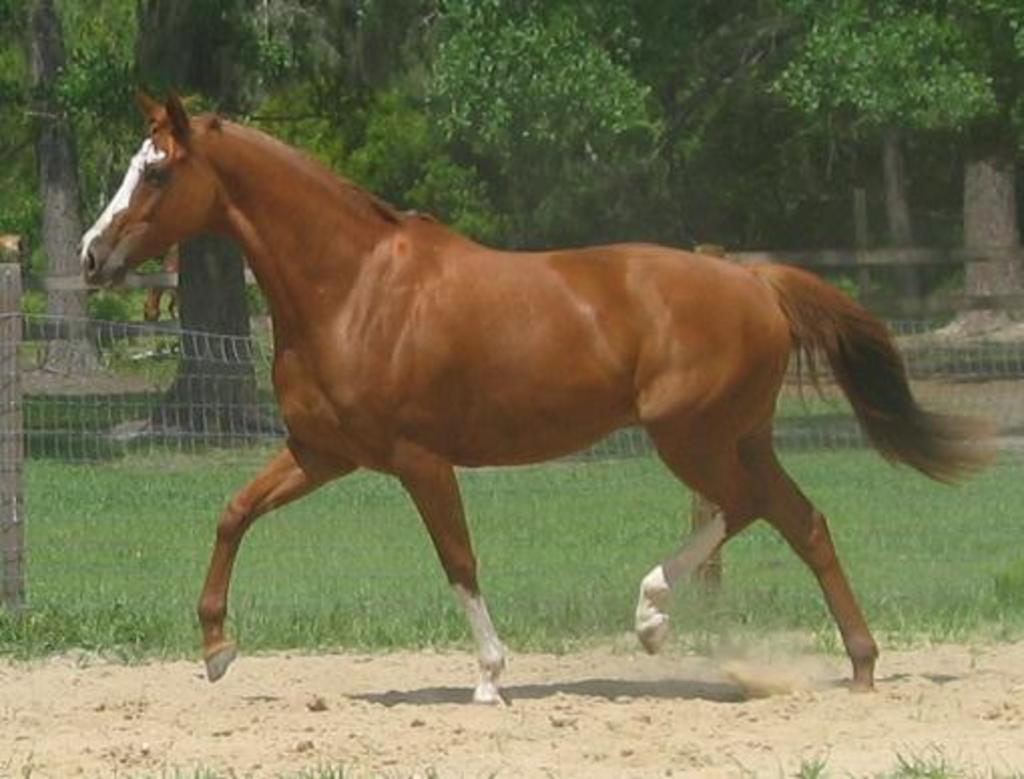horse: (74, 91, 1000, 704)
